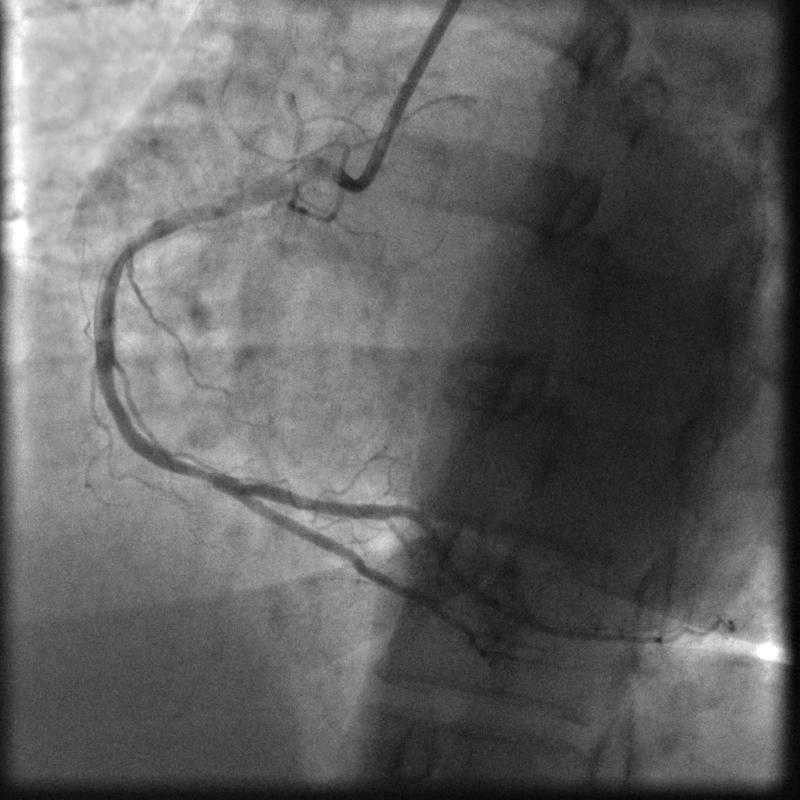Stenosis: (185, 454, 223, 495)
